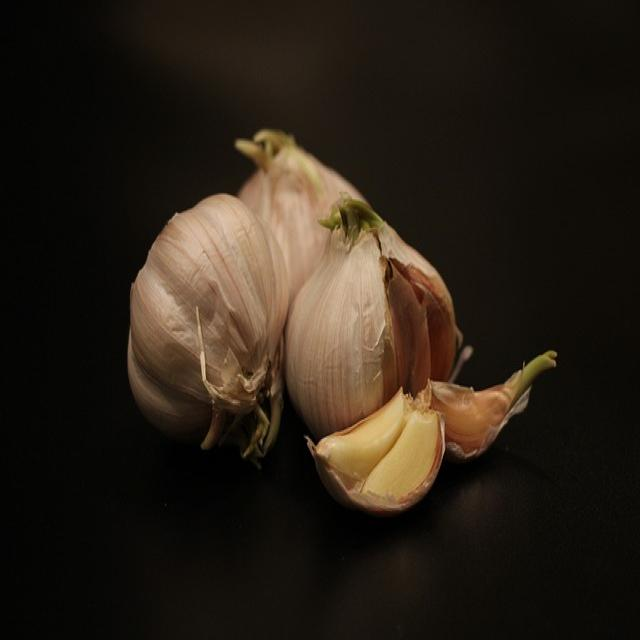garlic: (128, 195, 289, 464), (285, 197, 459, 437), (235, 129, 364, 304)
